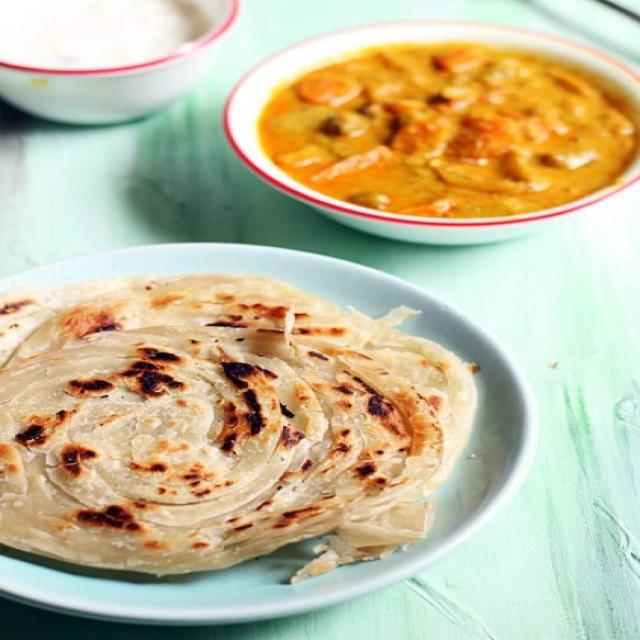CURRY: (259, 40, 638, 219)
PAROTTA: (7, 269, 483, 582)
